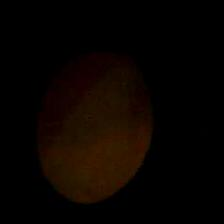fertile: (29, 46, 162, 210)
